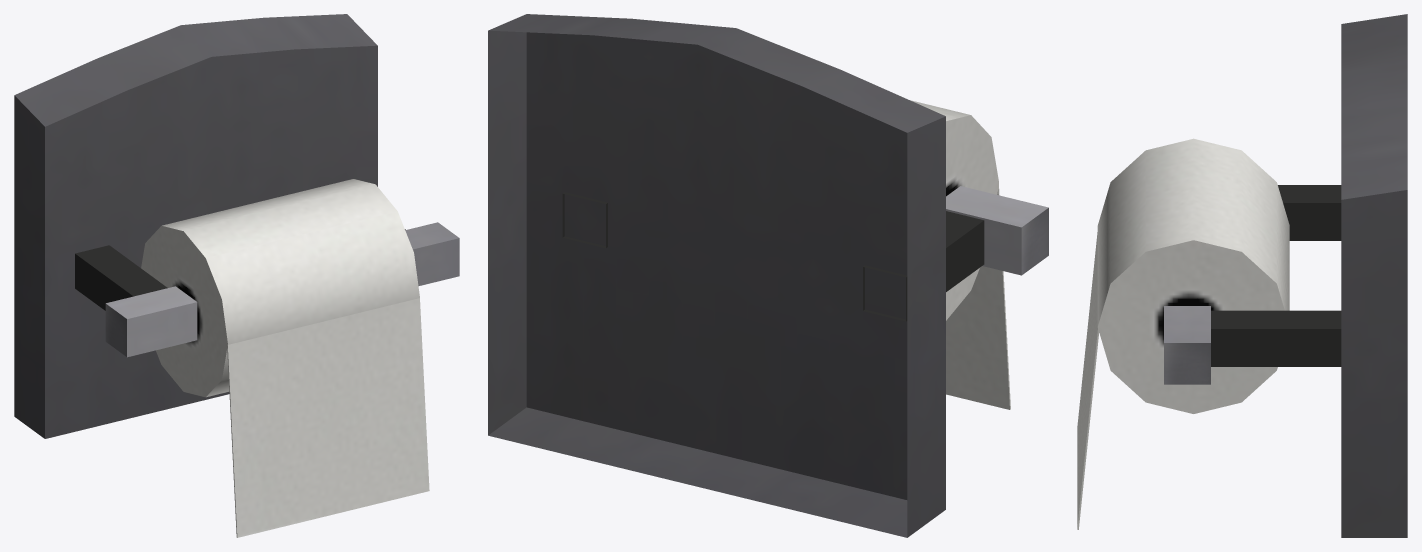
File: Toilet_Paper.fbx
3 views of the same model, side by side, from view 1: azimuth 30°, elevation 25°; view 2: azimuth 150°, elevation 25°; view 3: azimuth 270°, elevation 25° (orthographic). The views are drawn at different scales.
Visible parts, largest first — view 1: polySurface1554; view 2: polySurface1554; view 3: polySurface1554.
Part boxes in pixels (x1,y1,x2,y2): polySurface1554: (14, 14, 459, 537); polySurface1554: (488, 14, 1048, 537); polySurface1554: (1077, 14, 1407, 537).
Bounding box in the file's own units: 0.26 × 0.282 × 0.2065.
